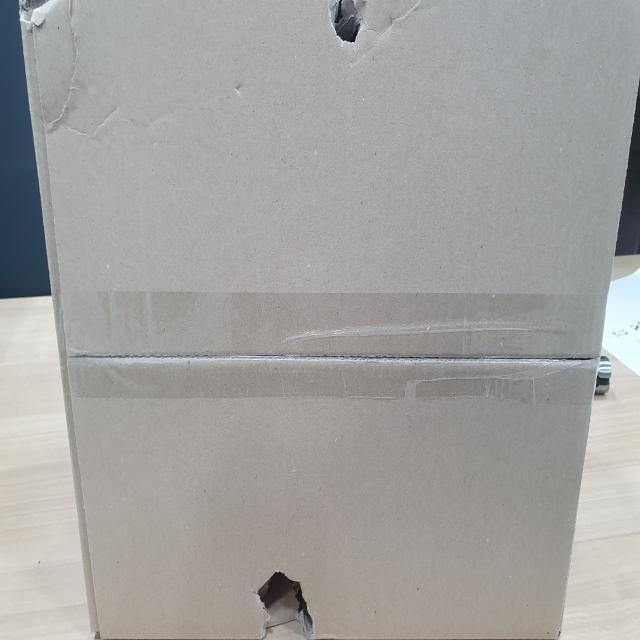hole: (250, 568, 318, 640), (325, 1, 375, 47)
